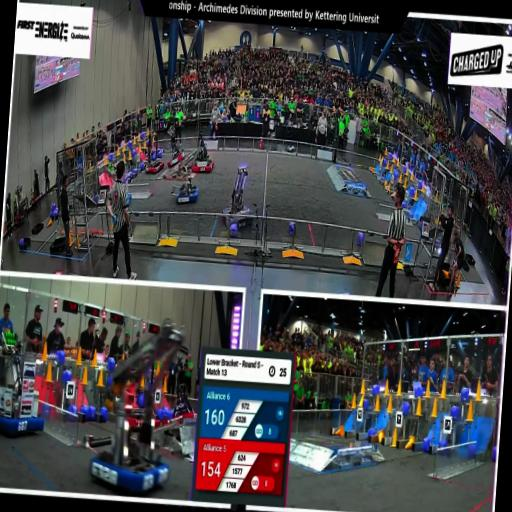robot: (88, 316, 186, 494), (0, 324, 52, 438), (163, 356, 201, 432), (220, 163, 259, 234), (165, 382, 198, 427), (123, 398, 162, 434), (142, 129, 166, 175), (192, 134, 218, 174), (176, 175, 202, 210), (166, 132, 186, 168)
